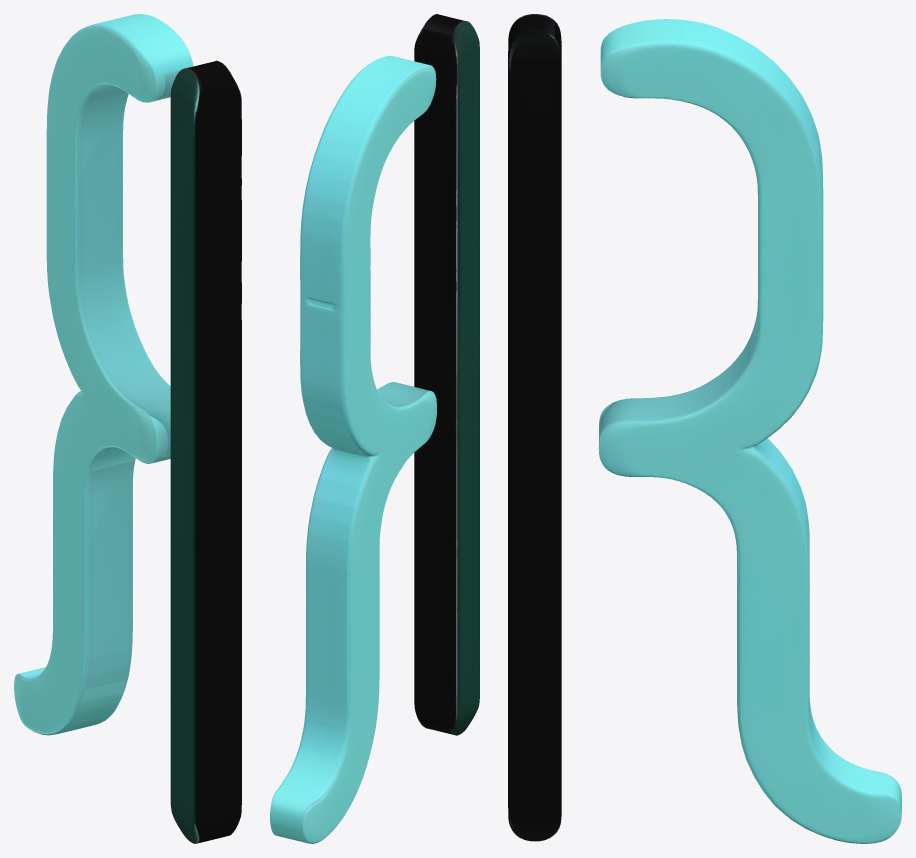
File: base_basic_shaded.glb
The picture shows the model from 3 angles, left to right: view 1: azimuth 30°, elevation 25°; view 2: azimuth 150°, elevation 25°; view 3: azimuth 270°, elevation 25°; orthographic projection. The views are drawn at different scales.
Visible parts, largest first — view 1: model; view 2: model; view 3: model.
Part boxes in pixels (x1,y1,x2,y2): model: (14,14,241,843); model: (270,14,479,843); model: (508,14,901,843).
Bounding box in the file's own units: 0.1269 × 1.9 × 0.8359.
1 material, 1 textured.
